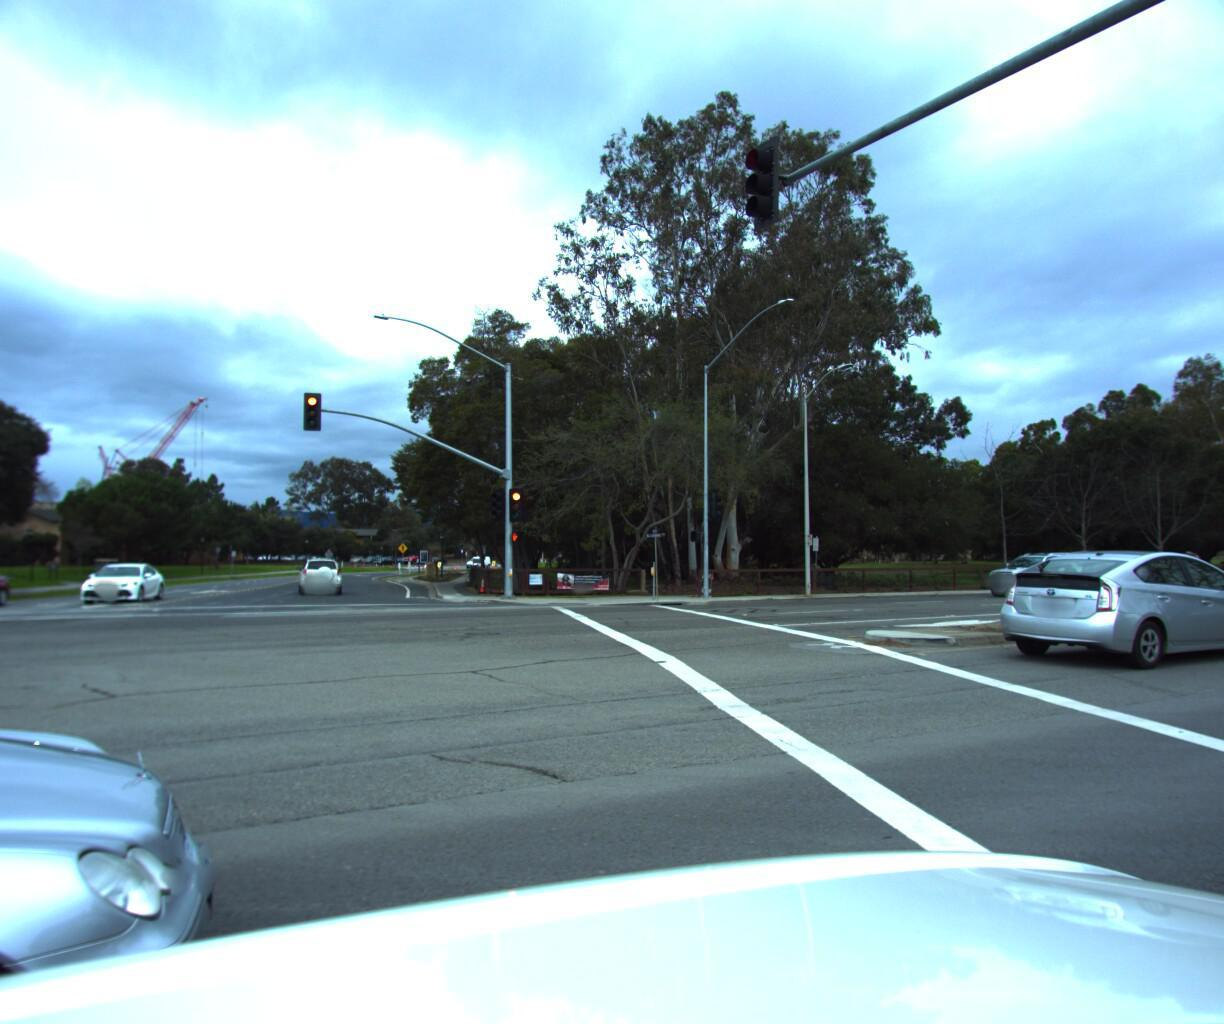car: (970, 542, 1224, 670), (975, 543, 1093, 592), (69, 561, 171, 604), (293, 553, 349, 593), (0, 562, 20, 612), (1197, 554, 1224, 583)
